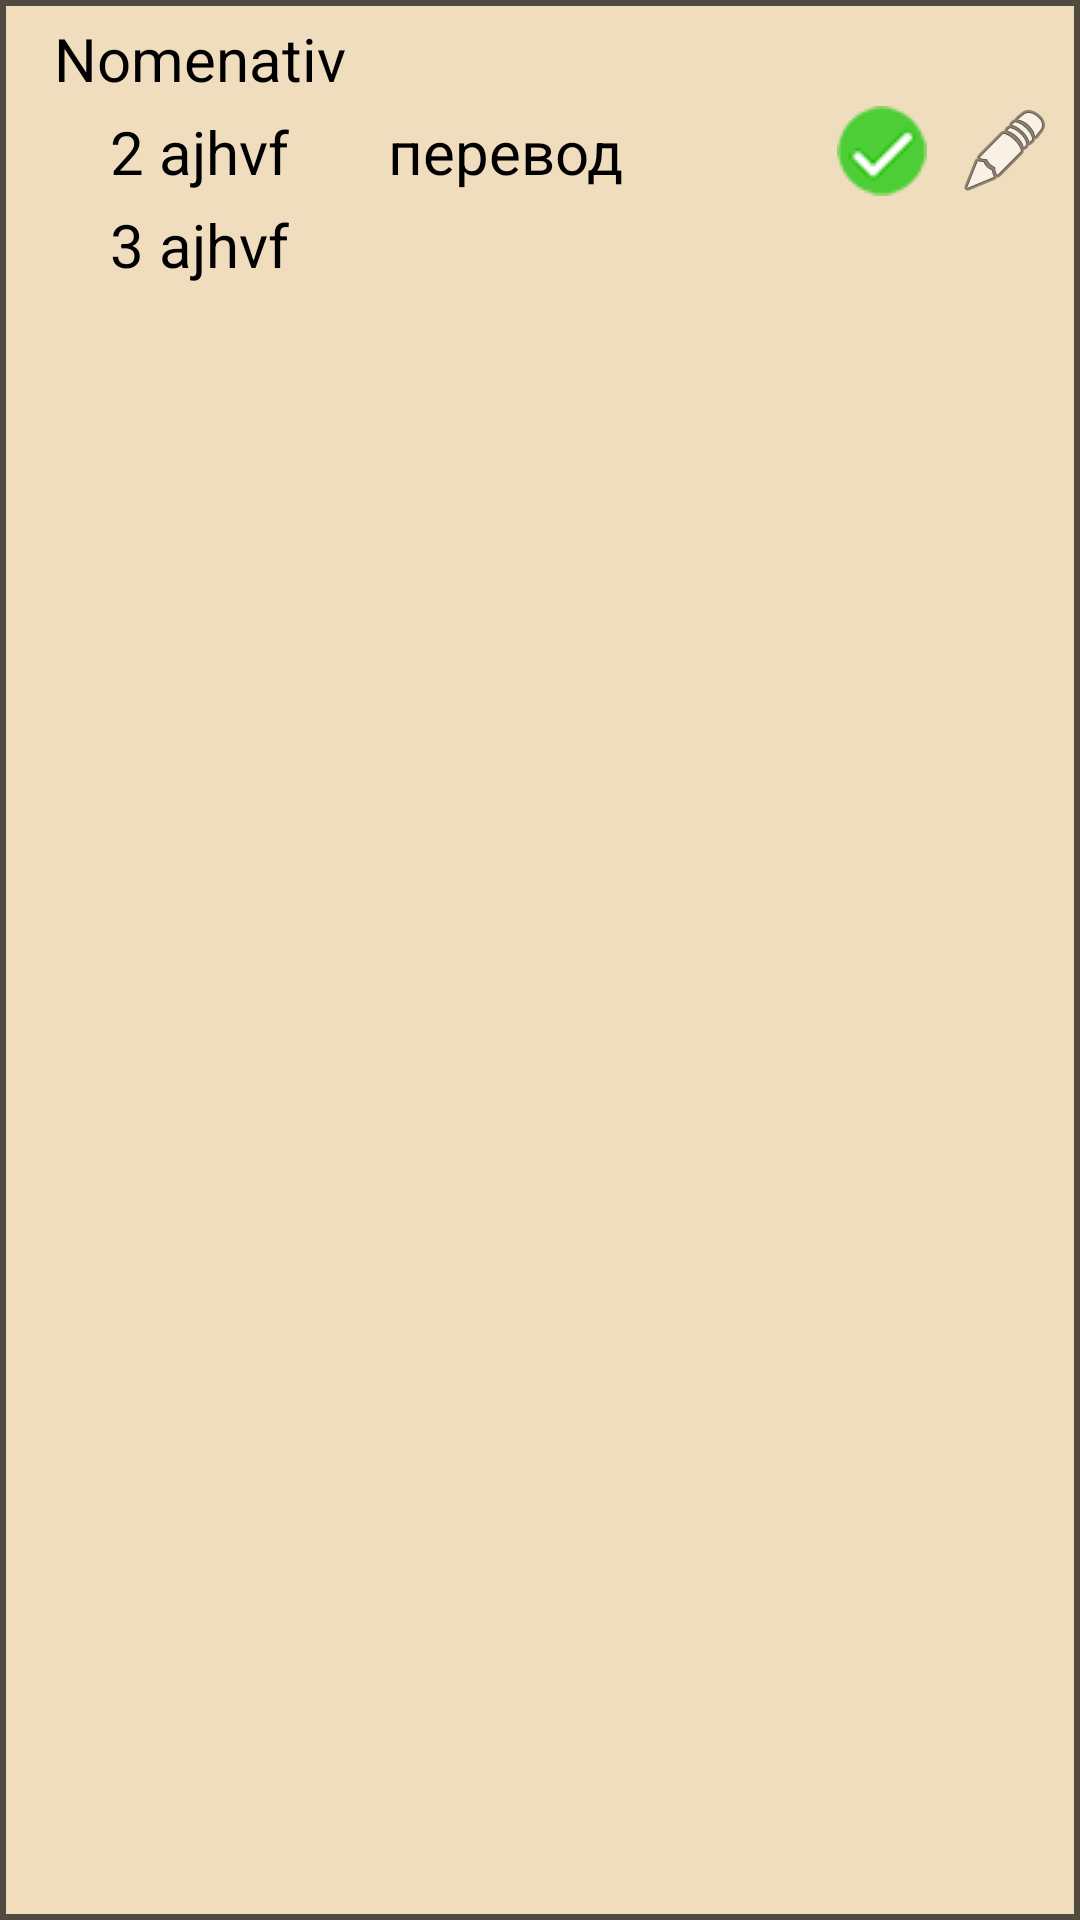

Locate icon controls on the screen. Image size 1080 × 1920, boxes as (x1, y1, x2, y2).
edit: (964, 110, 1045, 191)
